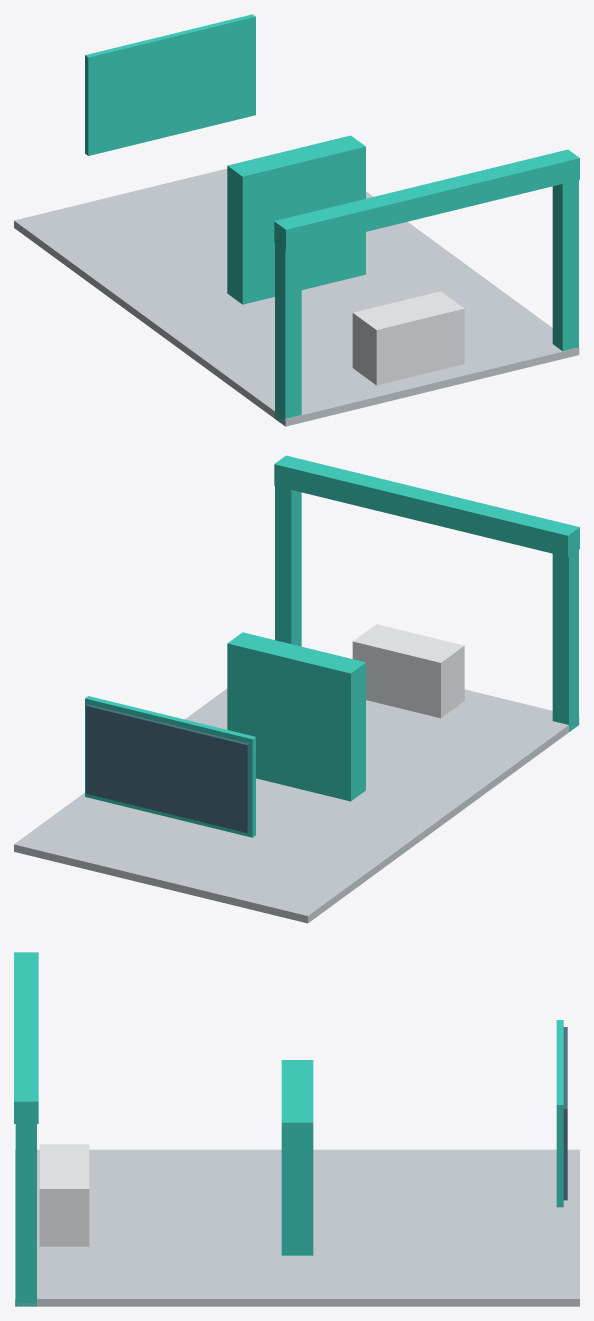
3 renders of one model, top to bottom at view 1: azimuth 30°, elevation 25°; view 2: azimuth 150°, elevation 25°; view 3: azimuth 270°, elevation 25°, orthographic. The views are drawn at different scales.
Parts seen in each view (by area): view 1: Exhibition Booth Concept; view 2: Exhibition Booth Concept; view 3: Exhibition Booth Concept.
Part boxes in pixels (x1,y1,x2,y2): Exhibition Booth Concept: [14, 14, 579, 426]; Exhibition Booth Concept: [14, 455, 579, 923]; Exhibition Booth Concept: [14, 952, 579, 1306].
Bounding box in the file's own units: 5 × 3.2 × 8.01.
